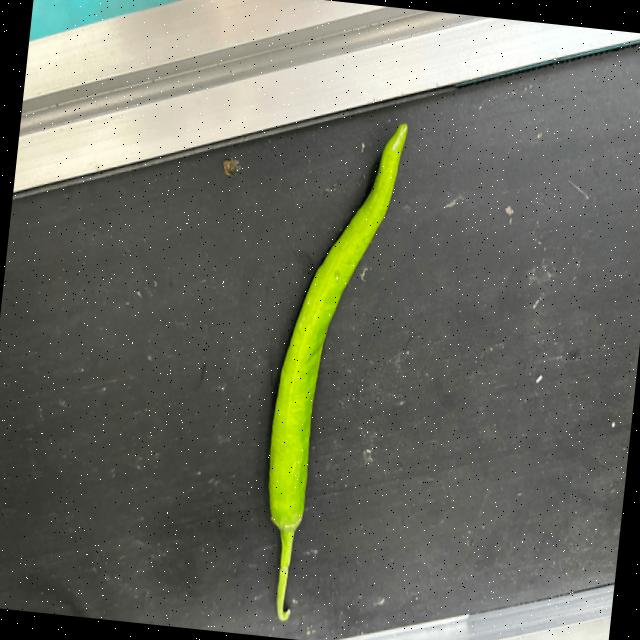chili: (265, 116, 410, 532)
